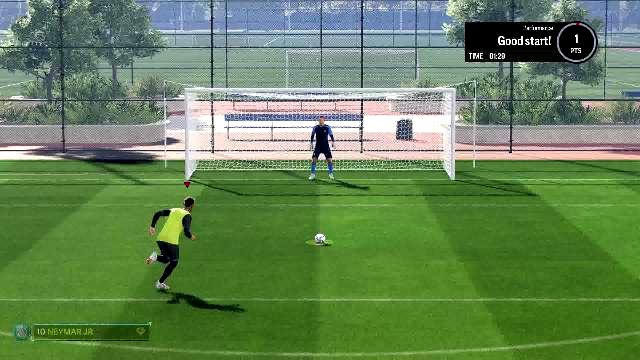bottom-left: (190, 139, 274, 180)
bottom-right: (362, 138, 448, 180)
center-down: (276, 138, 364, 178)
center-up: (278, 93, 367, 136)
circle: (307, 240, 333, 244)
football: (312, 233, 328, 245)
goalkeeper: (308, 114, 342, 180)
player: (147, 195, 201, 295)
top-left: (192, 94, 274, 138)
top-right: (362, 93, 446, 136)
